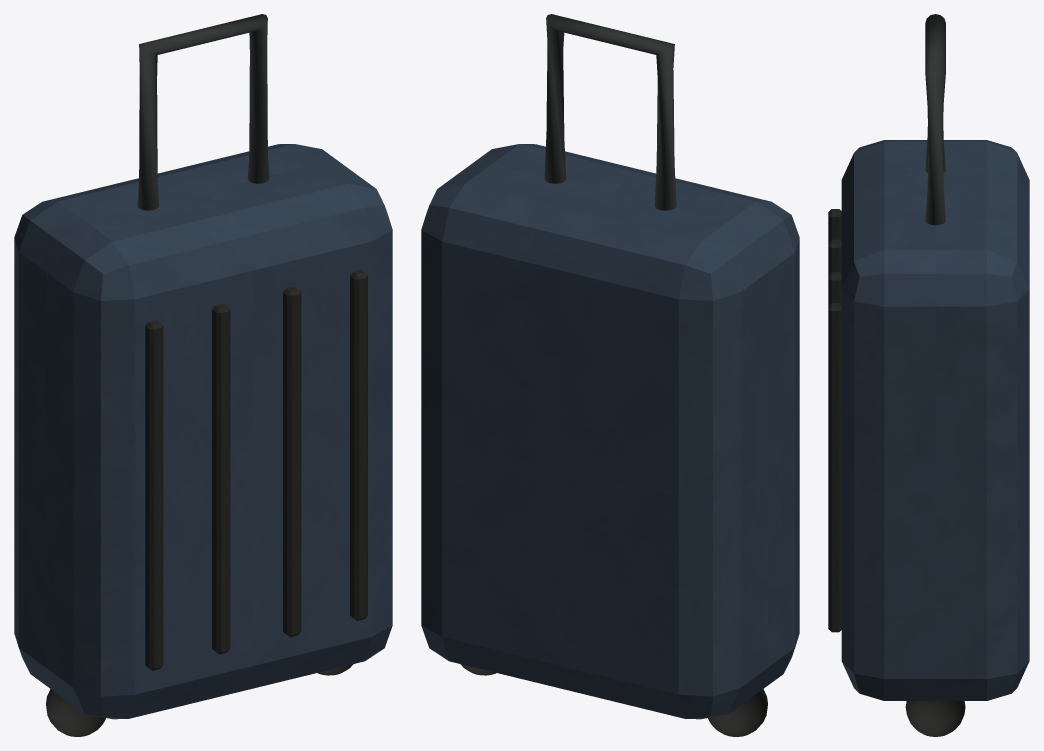
The model's file is suitcase.glb.
3 renders of one model, left to right at view 1: azimuth 30°, elevation 25°; view 2: azimuth 150°, elevation 25°; view 3: azimuth 270°, elevation 25°, orthographic. The views are drawn at different scales.
Visible parts, largest first — view 1: suitcase_Mesh; view 2: suitcase_Mesh; view 3: suitcase_Mesh.
Boxes of the visible parts, left/top/right/bottom form: suitcase_Mesh: left=14, top=14, right=392, bottom=736; suitcase_Mesh: left=421, top=14, right=799, bottom=736; suitcase_Mesh: left=828, top=14, right=1029, bottom=736.
Bounding box in the file's own units: 0.4 × 0.8171 × 0.2355.
Materials: 3 (3 with a texture image).
